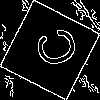C: (25, 25, 80, 73)
